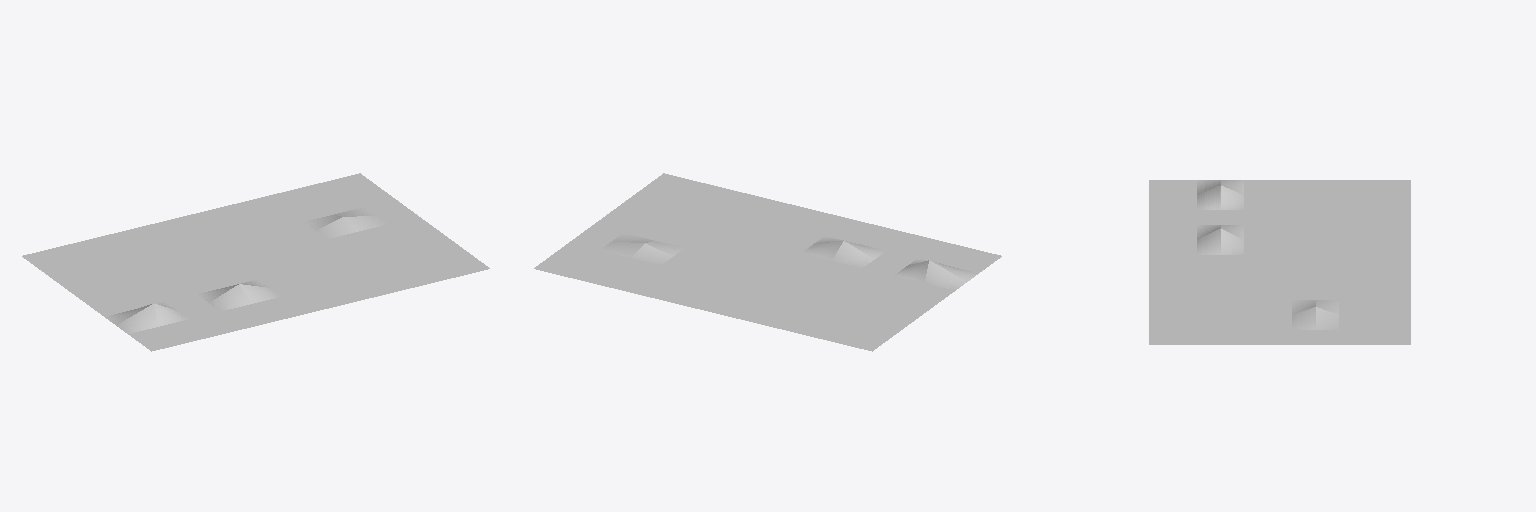
Rendered from Cplane.obj.
The picture shows the model from 3 angles: view 1: azimuth 30°, elevation 25°; view 2: azimuth 150°, elevation 25°; view 3: azimuth 270°, elevation 25°; orthographic projection.
Parts seen in each view (by area): view 1: Plane; view 2: Plane; view 3: Plane.
Boxes of the visible parts, box(x1,y1,x2,y2) form: Plane: box(22, 173, 489, 351); Plane: box(534, 173, 1001, 351); Plane: box(1149, 180, 1410, 344).
Bounding box in the file's own units: 720 × 26.23 × 480.